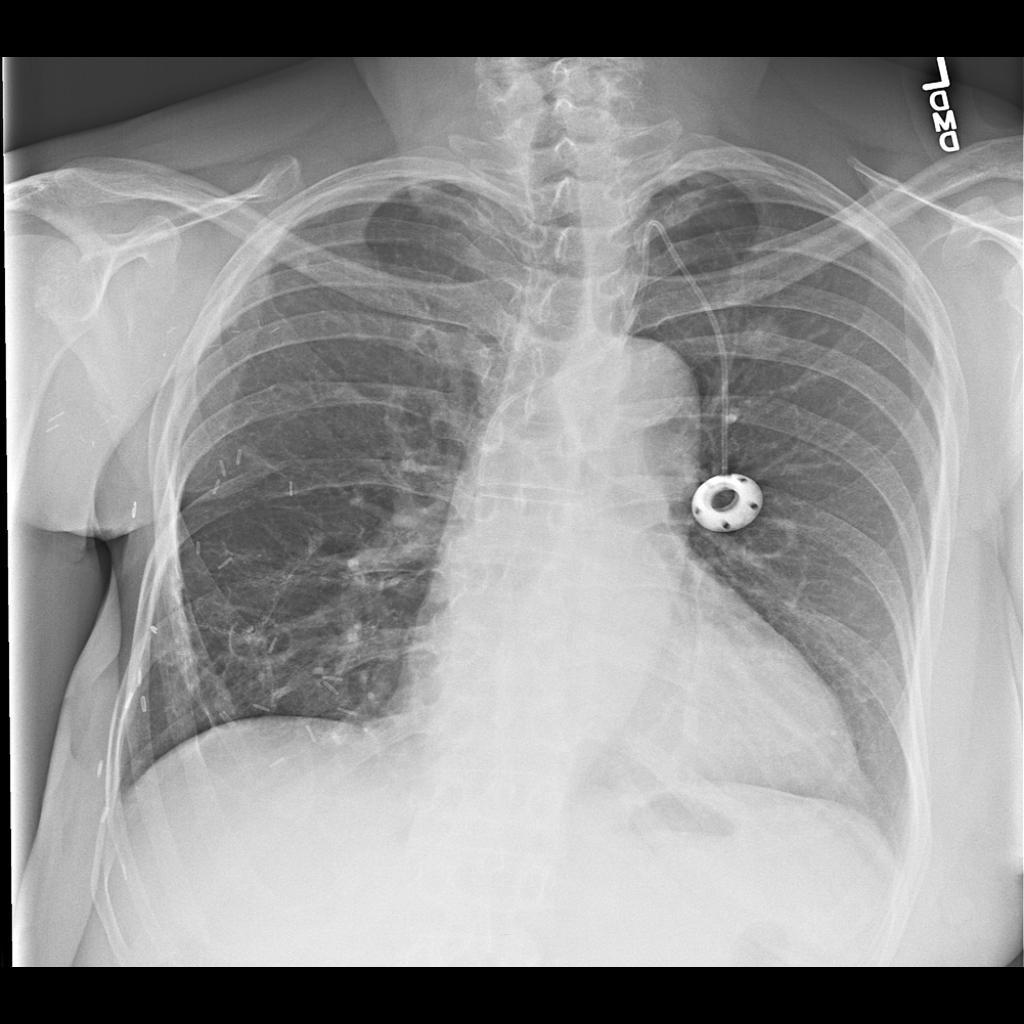Nodule: (730, 303, 797, 377)
